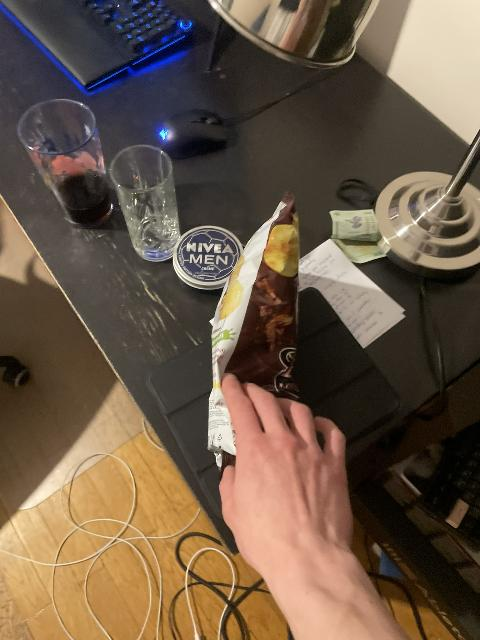Lays Beef Grilled Ribs 125g: (206, 197, 297, 463)
